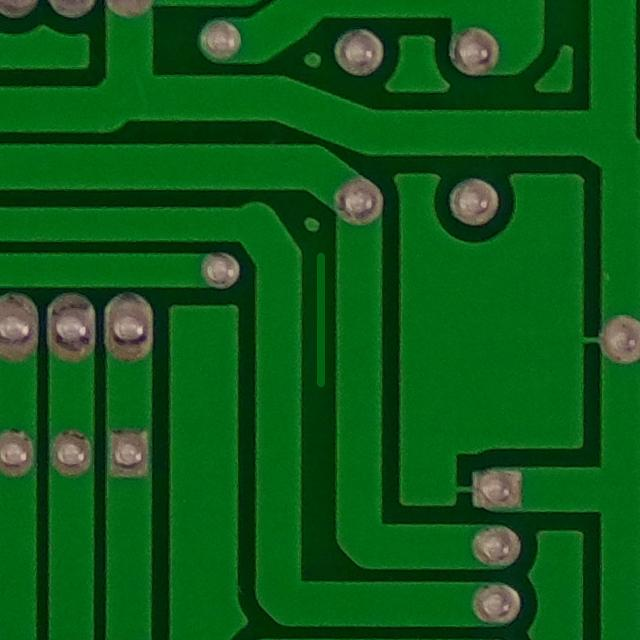spurious_copper: (301, 246, 339, 394)
